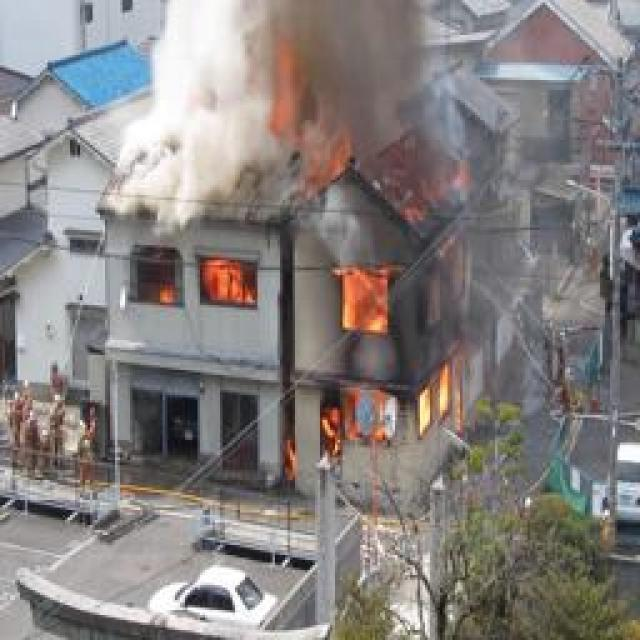Fire: (282, 255, 458, 484), (269, 53, 350, 192), (149, 263, 249, 305)
